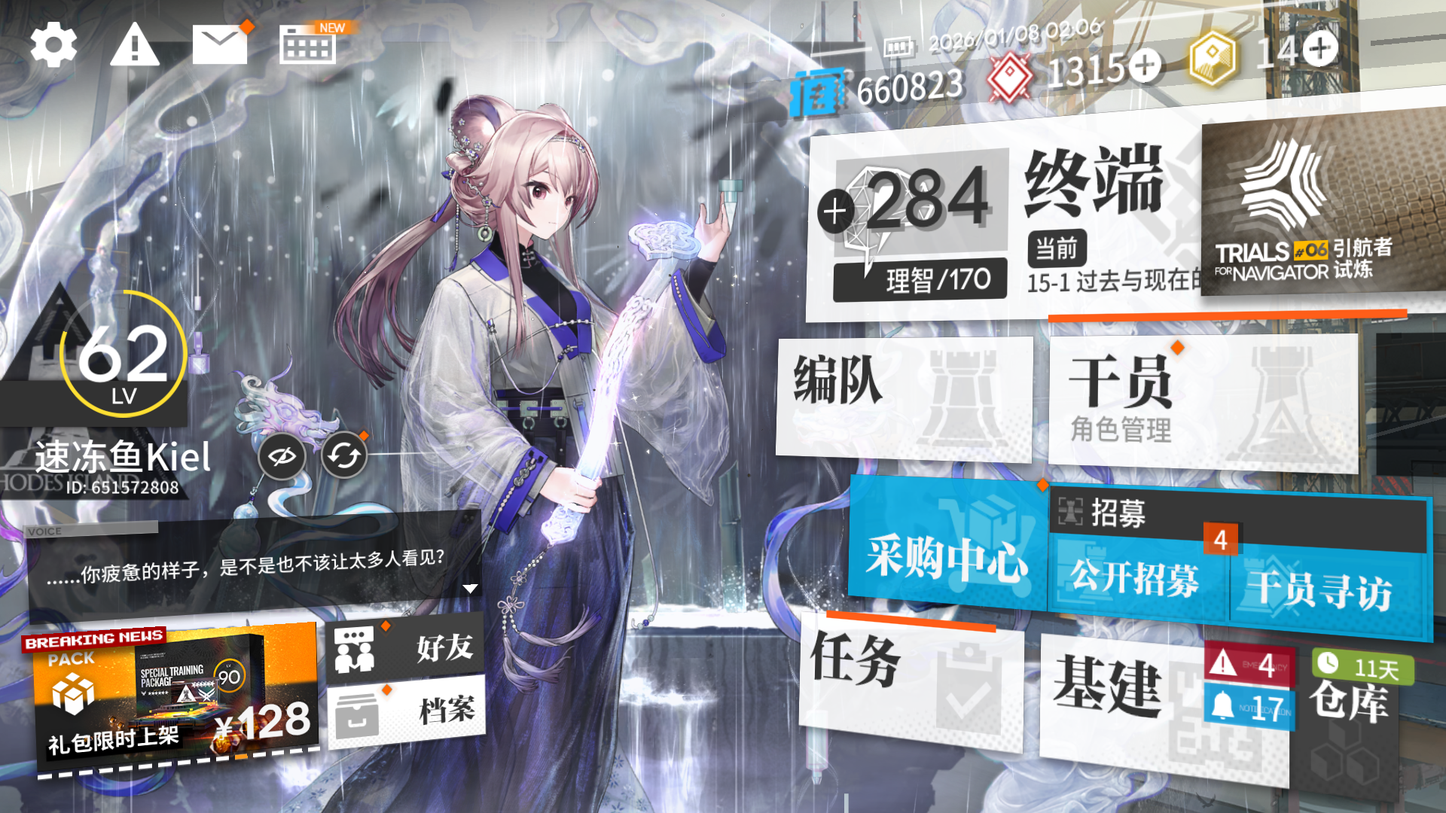home_button: (1010, 125, 1191, 234)
infrastructure_button: (1041, 630, 1278, 781)
